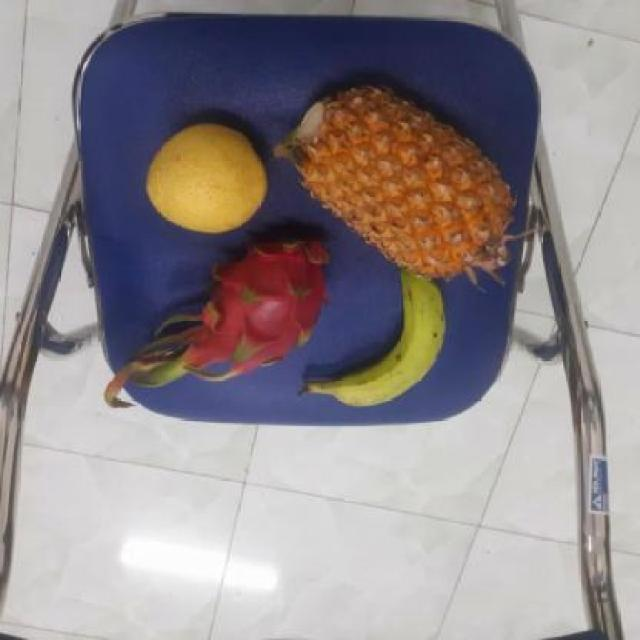banana: (315, 269, 454, 413)
dragon fruit: (186, 226, 337, 377)
pear: (143, 118, 277, 230)
pineapple: (290, 82, 518, 280)
